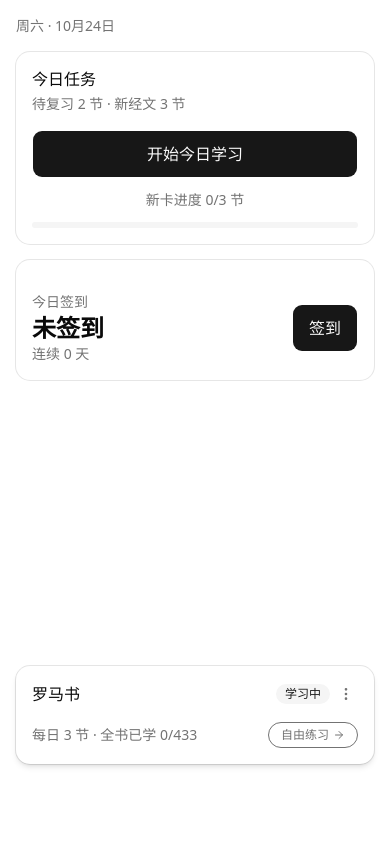
Test case: PlanClient 签到反馈 › 网络异常时也给出可读提示
Click the button "签到". click: [325, 328]
box: [292,304,358,352]
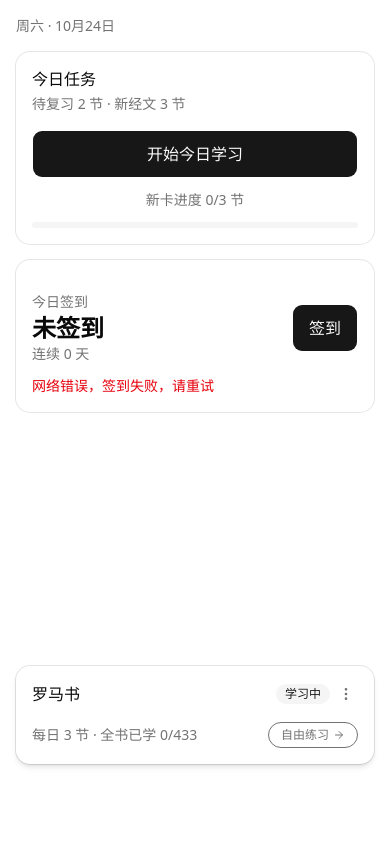
Expected: the message shows "网络错误", [32,376,214,395]
